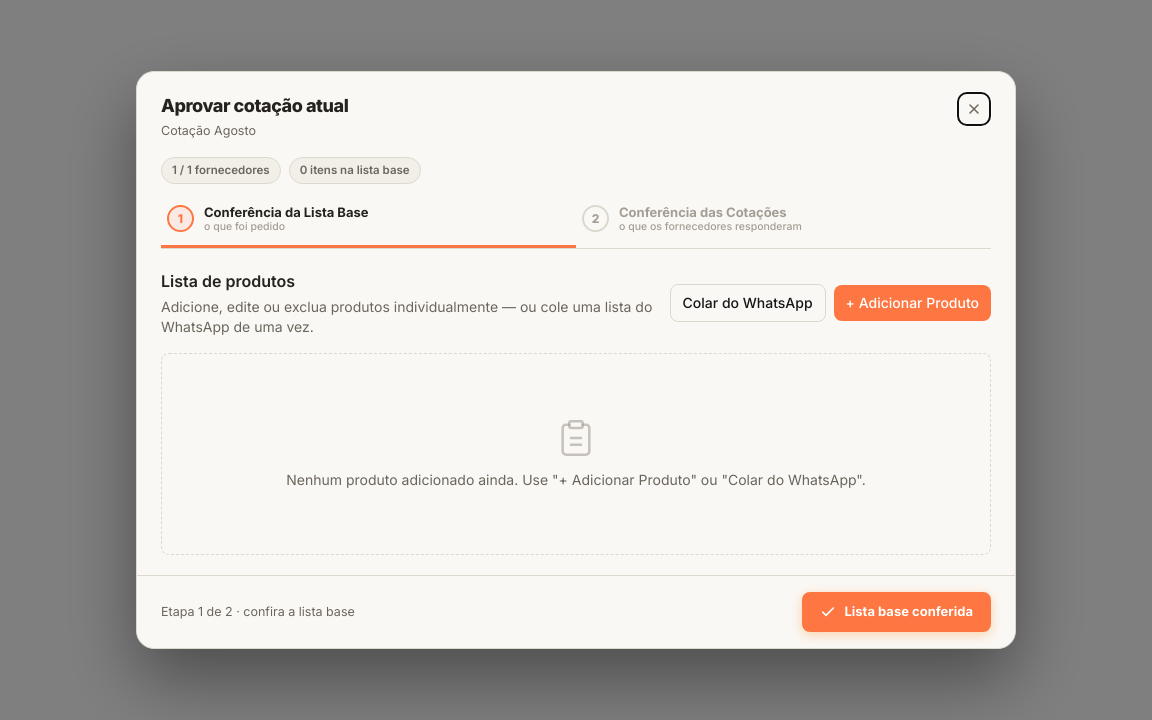
Scenario: AprovacaoModal — gate e fluxo de 'Lançar' › com todos confirmados, 'Lançar' mostra a tela de sucesso e navega pro Comparativo, SEM finalizar a cotação
The image size is (1152, 720).
Click the button "Conferência das Cotações". click: (784, 224)
box: [576, 200, 991, 248]
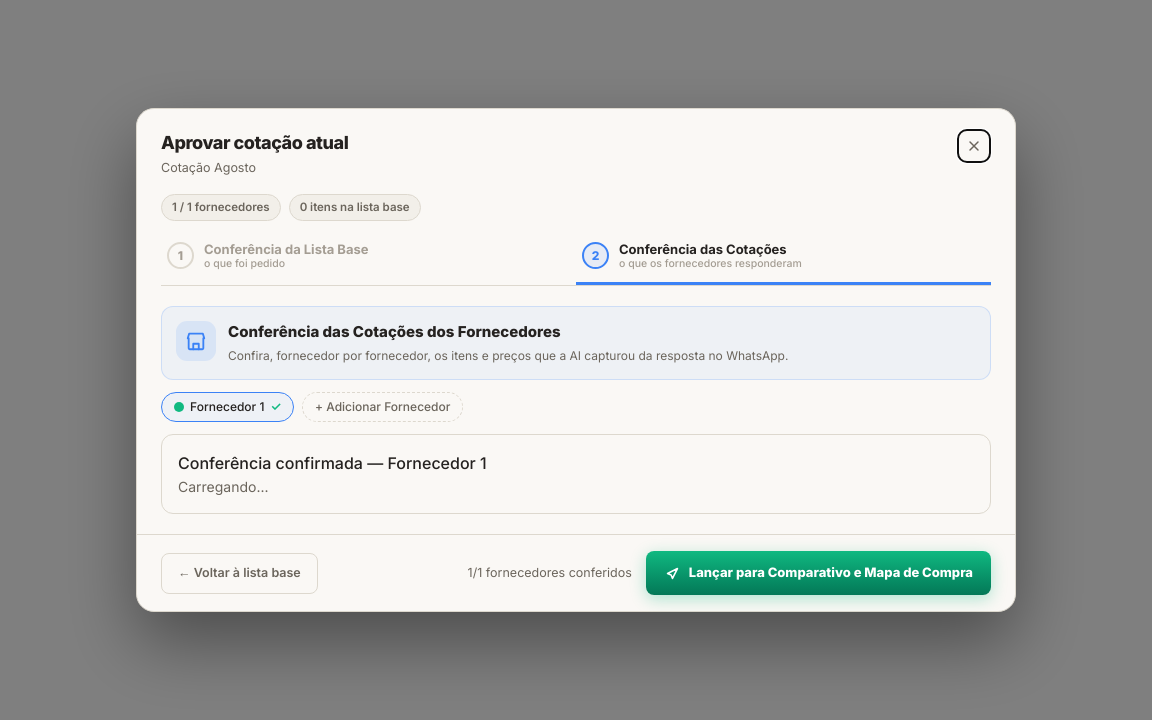
Click the button "Lançar para Comparativo e Mapa de Compra". click: (818, 573)
box: [646, 551, 991, 595]
Wait 2600 ms
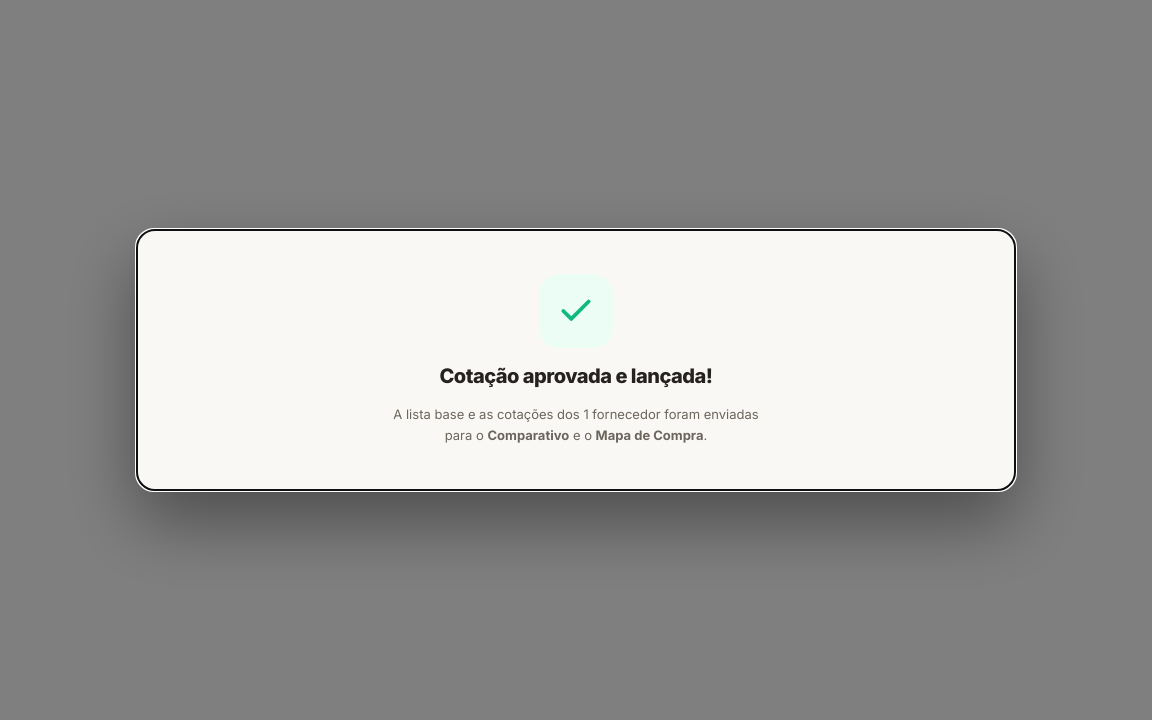
Result: the heading "Cotação aprovada e lançada!" is shown at [439, 362, 712, 390]
